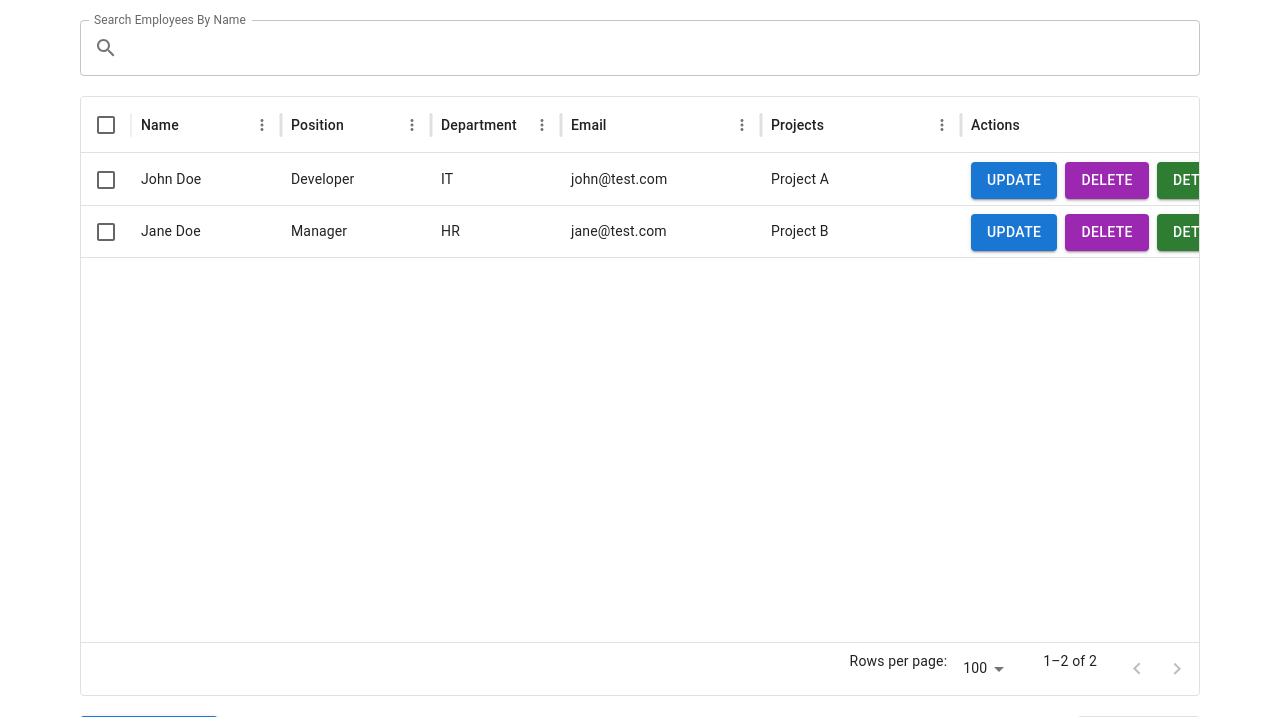
Test: ListEmployeesComponent › handles employee deletion failure
The image size is (1280, 717).
Click the button "Delete" in the row of "John Doe": [1107, 180] box [1065, 162, 1149, 198]
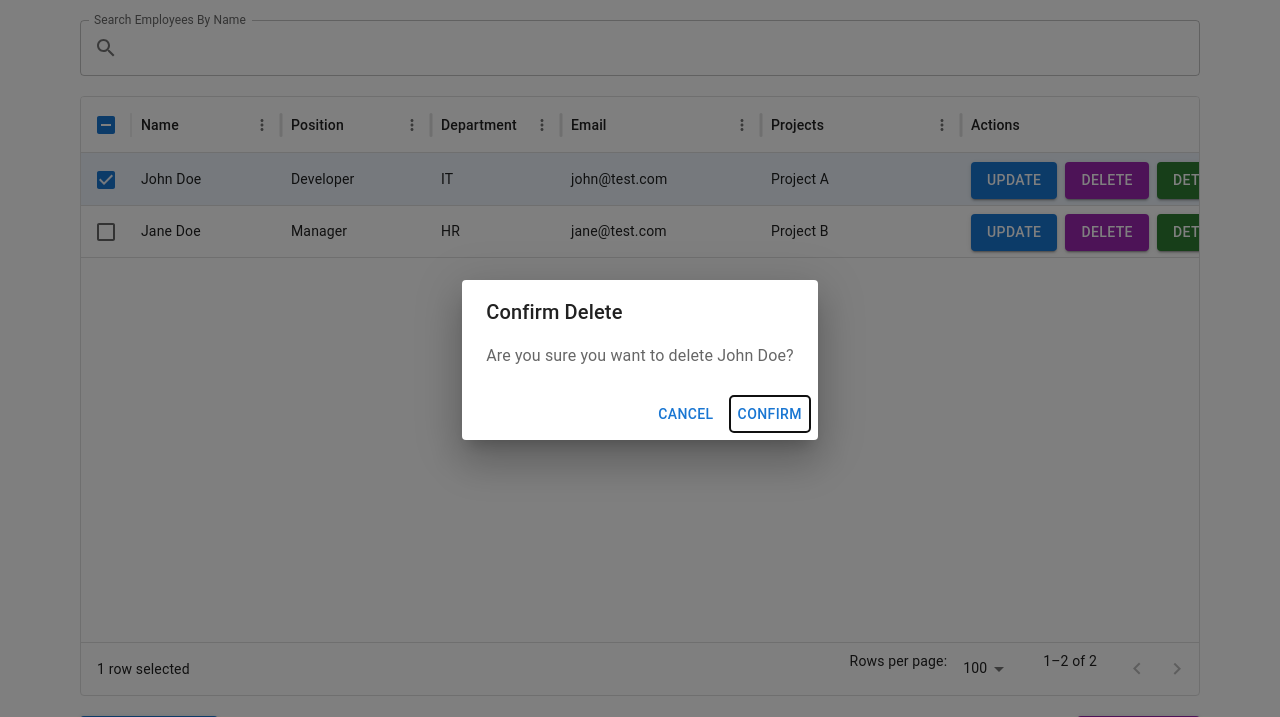
Click the button "Confirm": [770, 414] box [730, 396, 810, 432]
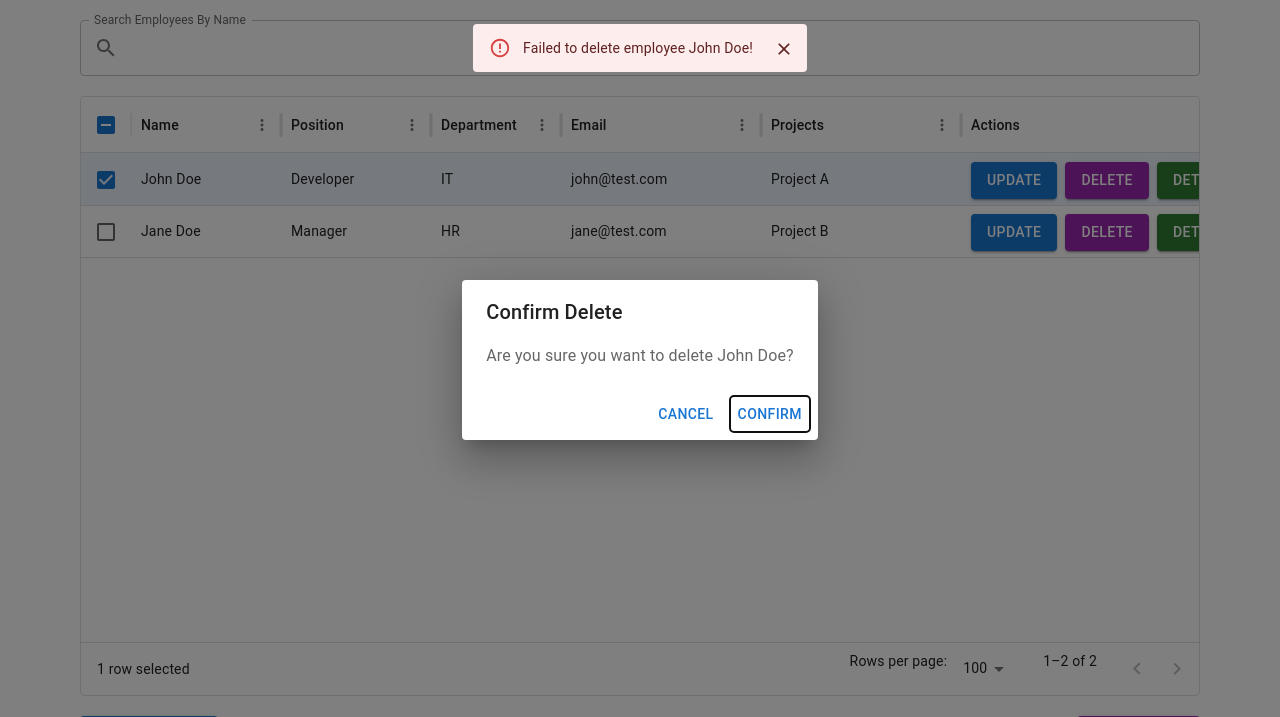
Expected: the text "Failed to delete employee John Doe!" is shown, [523, 40, 753, 56]
